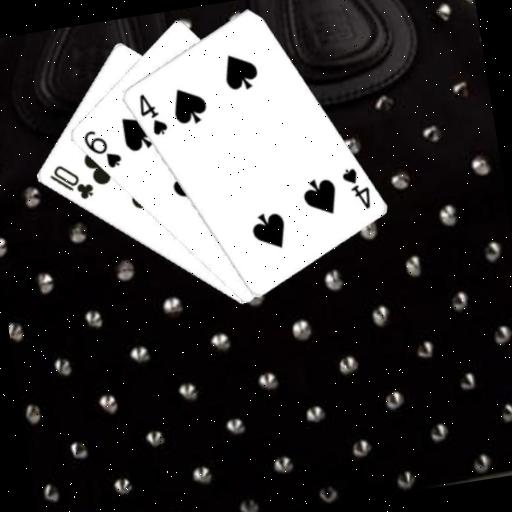10C: (44, 156, 97, 206)
4S: (336, 162, 373, 214), (133, 87, 169, 139)
6S: (77, 123, 124, 174)
